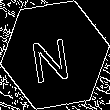N_N: (33, 27, 77, 83)
